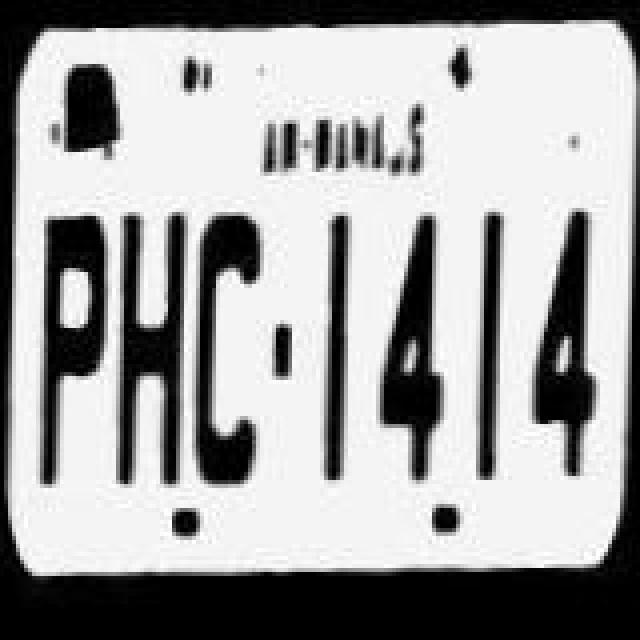1: (304, 198, 368, 490), (462, 202, 522, 494)
4: (372, 204, 460, 488), (524, 202, 612, 478)
C: (188, 208, 276, 492)
H: (106, 200, 190, 500)
P: (30, 200, 114, 496)
